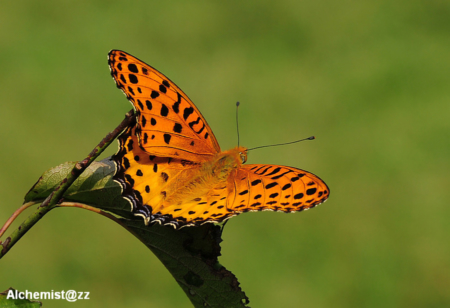Argyreus hyperbius: (103, 43, 336, 232)
butterfly: (105, 45, 338, 234)
